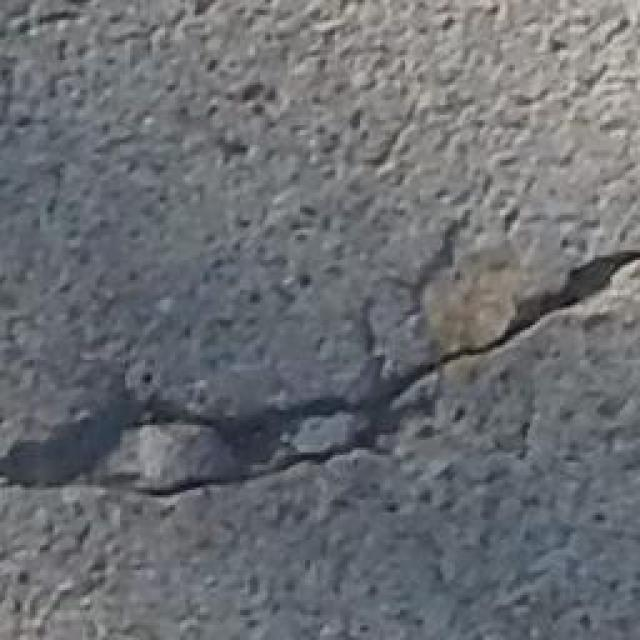concrete-crack: (0, 239, 640, 503)
